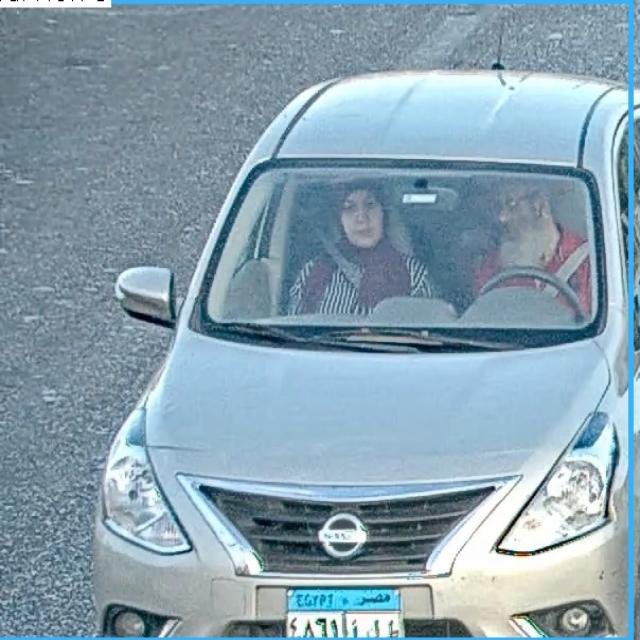windshield: (192, 167, 604, 343)
